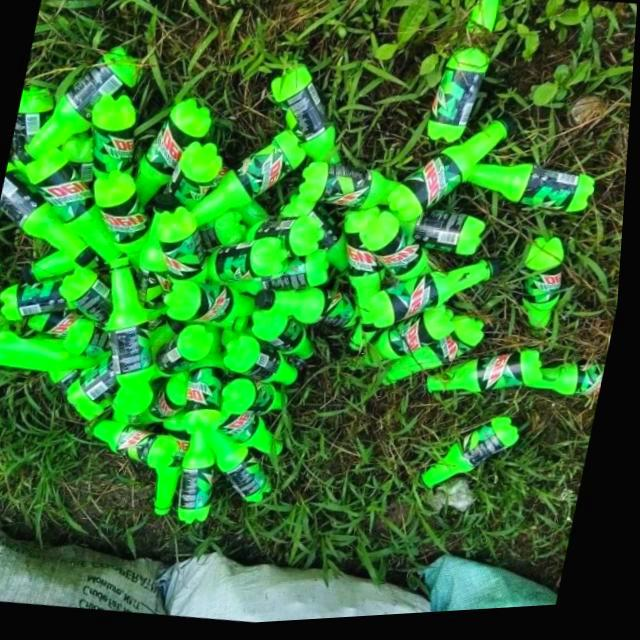plastic_bottle: (21, 47, 139, 165), (391, 125, 512, 226), (28, 149, 131, 263), (193, 133, 309, 229), (429, 0, 503, 148), (1, 162, 101, 268), (375, 265, 503, 333), (432, 356, 611, 402), (137, 100, 212, 207), (270, 63, 343, 168), (426, 423, 525, 495), (389, 324, 490, 390), (469, 169, 597, 220), (111, 258, 159, 394), (97, 172, 154, 273), (367, 313, 460, 372), (347, 211, 390, 338), (301, 165, 404, 214), (208, 435, 279, 506), (363, 215, 435, 285), (142, 195, 185, 311), (190, 329, 233, 439), (259, 291, 365, 334), (97, 421, 185, 469), (0, 332, 103, 373), (527, 243, 568, 345), (234, 256, 333, 297), (159, 209, 212, 285), (168, 283, 260, 326), (229, 338, 304, 389), (210, 240, 291, 286), (408, 215, 489, 261), (94, 96, 140, 176), (62, 268, 117, 334), (161, 418, 197, 517), (185, 434, 223, 527), (224, 414, 295, 461), (174, 143, 226, 206), (257, 315, 322, 365), (158, 327, 217, 381), (3, 277, 71, 321), (142, 375, 195, 428), (228, 382, 294, 419), (0, 213, 4, 278)
